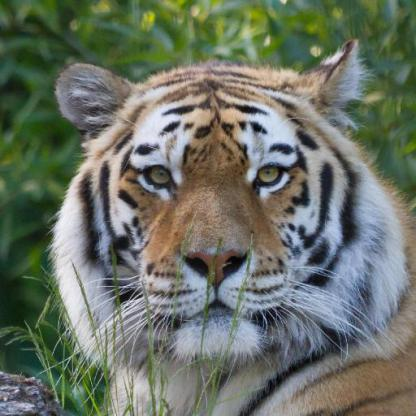tiger: (61, 64, 383, 362)
